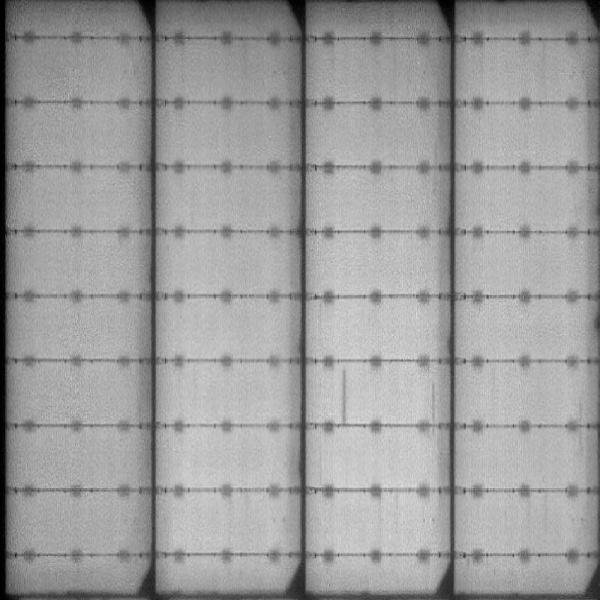scratch: (339, 368, 352, 427), (427, 378, 440, 434)
